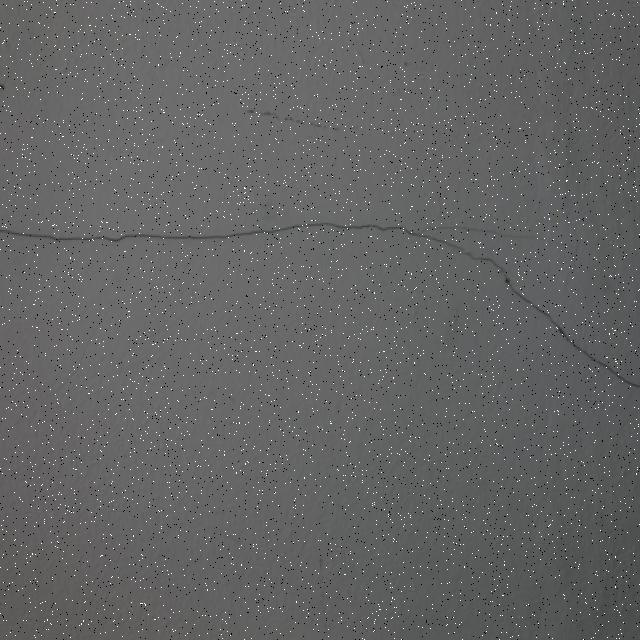minor crack: (394, 224, 502, 265)
moderate crack: (241, 105, 348, 131)
severe crack: (4, 220, 636, 397), (9, 223, 312, 242)
